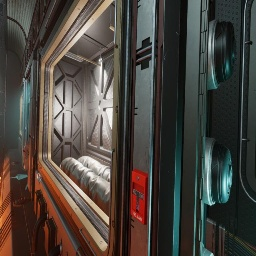EmergencyPhone ,: (20, 142, 22, 151)
FireAlarm ,: (131, 168, 148, 225)
SafetySwitchPanel ,: (23, 141, 30, 170)
